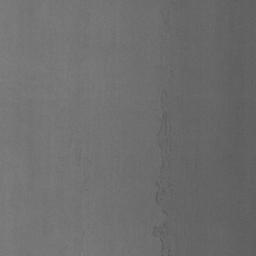Silk spot: (152, 223, 172, 256), (160, 112, 171, 136)
